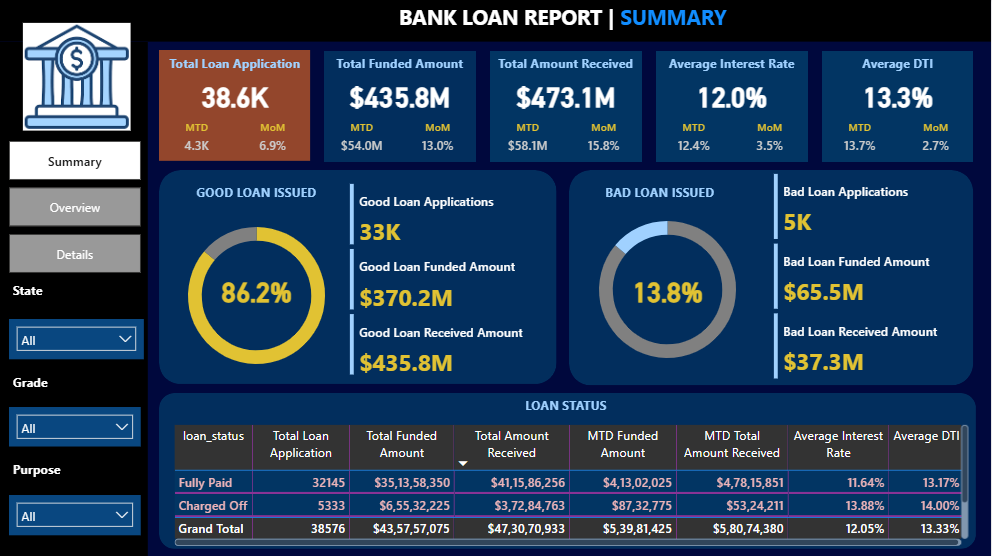

This screenshot's page, from the dashboard's own definition file:
{"tool":"powerbi","page":{"name":"Summary","canvas":[1280,720],"ordinal":0},"visuals":[{"type":"card","fields":{"Values":["financial_loan.Total Loan Application"]},"box":[206.9,101,195.6,45.4],"z":0,"group":"g1"},{"type":"card","fields":{"Values":["financial_loan.Total Funded Amount"]},"box":[419.5,101,195.6,45.4],"z":0,"group":"g3"},{"type":"card","fields":{"Values":["financial_loan.Total Amount Received"]},"box":[633.9,101,195.4,45.4],"z":0,"group":"g5"},{"type":"card","fields":{"Values":["financial_loan.Average Interest Rate"]},"box":[847.7,101,195.4,45.4],"z":0,"group":"g4"},{"type":"card","fields":{"Values":["financial_loan.Average DTI"]},"box":[1061.6,101,195.4,45.4],"z":0,"group":"g6"},{"type":"shape","box":[206.9,221.1,513.1,276.4],"z":0},{"type":"shape","box":[0,0,1279.8,55.3],"z":1000},{"type":"textbox","box":[206.9,66.6,195.6,34.4],"z":1000,"group":"g1"},{"type":"textbox","title":"Toatal Funded Amount","box":[419.5,66.6,195.6,34.4],"z":1000,"group":"g3"},{"type":"textbox","box":[633.9,66.6,195.4,34.4],"z":1000,"group":"g5"},{"type":"textbox","box":[847.7,66.6,195.4,34.4],"z":1000,"group":"g4"},{"type":"textbox","box":[1061.6,66.6,195.4,34.4],"z":1000,"group":"g6"},{"type":"card","title":"MTD","fields":{"Values":["financial_loan.MTD Loan Application"]},"box":[206.9,156.1,97.8,53.7],"z":2000,"group":"g1"},{"type":"card","title":"MTD","fields":{"Values":["financial_loan.MTD Funded Amount"]},"box":[419.5,156.1,97.8,53.7],"z":2000,"group":"g3"},{"type":"card","title":"MTD","fields":{"Values":["financial_loan.MTD Total Amount Received"]},"box":[633.9,156.1,97.7,53.7],"z":2000,"group":"g5"},{"type":"card","title":"MTD","fields":{"Values":["financial_loan.MTD Average Interest Rate"]},"box":[847.7,156.1,97.7,53.7],"z":2000,"group":"g4"},{"type":"card","title":"MTD","fields":{"Values":["financial_loan.MTD Average DTI"]},"box":[1061.6,156.1,97.7,53.7],"z":2000,"group":"g6"},{"type":"card","fields":{"Values":["financial_loan.Good Loan %"]},"box":[262.2,352.9,140.3,45.4],"z":2000},{"type":"shape","box":[0,55.1,192,664.8],"z":3000},{"type":"card","title":"MoM","fields":{"Values":["financial_loan.MoM Loan Application"]},"box":[304.7,156.1,97.8,53.7],"z":3000,"group":"g1"},{"type":"card","title":"MoM","fields":{"Values":["financial_loan.MoM Funded Amount"]},"box":[517.3,156.1,97.8,53.7],"z":3000,"group":"g3"},{"type":"card","title":"MoM","fields":{"Values":["financial_loan.MoM Amount Received"]},"box":[731.6,156.1,97.7,53.7],"z":3000,"group":"g5"},{"type":"card","title":"MoM","fields":{"Values":["financial_loan.MoM Average Interest Rate"]},"box":[945.4,156.1,97.7,53.7],"z":3000,"group":"g4"},{"type":"card","title":"MoM","fields":{"Values":["financial_loan.MoM Average Dti"]},"box":[1159.3,156.1,97.7,53.7],"z":3000,"group":"g6"},{"type":"textbox","box":[510.6,0,447.3,55.1],"z":4000},{"type":"shape","box":[206.5,66.1,195.4,143.1],"z":5000},{"type":"group","id":"g1","title":"Group 2","box":[206.9,66.6,195.6,143.1],"z":5001,"group":"g2"},{"type":"group","id":"g2","title":"Group 1","box":[206.9,66.6,195.6,143.1],"z":6000},{"type":"group","id":"g3","title":"Group 1","box":[419.5,66.6,195.6,143.1],"z":7000},{"type":"group","id":"g4","title":"Group 2","box":[847.7,66.6,195.6,143.1],"z":8000},{"type":"group","id":"g5","title":"Group 2","box":[633.9,66.6,195.4,143.1],"z":9000},{"type":"group","id":"g6","title":"Group 2","box":[1061.6,66.6,195.6,143.1],"z":10000},{"type":"donutChart","fields":{"Category":["financial_loan.Good vs Bad Loan."],"Y":["financial_loan.Total Loan Application"]},"box":[216.9,266.5,231,231],"z":11000},{"type":"shape","box":[735.6,221.1,521.6,277.8],"z":12000},{"type":"textbox","box":[216.9,233.9,231,35.4],"z":13000},{"type":"cardVisual","fields":{"Data":["financial_loan.Good Loan Applications","financial_loan.Good Loan Funded Amount","financial_loan.Good Loan Total Received"]},"box":[447.9,233.9,260.8,256.5],"z":14000},{"type":"donutChart","fields":{"Category":["financial_loan.Good vs Bad Loan."],"Y":["financial_loan.Total Loan Application"]},"box":[746.9,259.4,231,231],"z":15000},{"type":"cardVisual","fields":{"Data":["financial_loan.Bad Loan Applications","financial_loan.Bad Loan Funded Amount","financial_loan.Bad Loan Total Received"]},"box":[995,221.1,260.8,276.4],"z":16000},{"type":"textbox","box":[746.9,233.9,211.2,35.4],"z":17000},{"type":"card","fields":{"Values":["financial_loan.Bad Loan %"]},"box":[792.3,352.9,140.3,45.4],"z":18000},{"type":"shape","box":[206.9,508.8,1054.5,201.3],"z":19000},{"type":"tableEx","fields":{"Values":["financial_loan.loan_status","financial_loan.Total Loan Application","financial_loan.Total Funded Amount","financial_loan.Total Amount Received","financial_loan.MTD Funded Amount","financial_loan.MTD Total Amount Received","financial_loan.Average Interest Rate","financial_loan.Average DTI"]},"box":[221.1,544.3,1034.6,165.8],"z":20000},{"type":"textbox","box":[221.1,508.8,1021.9,35.4],"z":21000},{"type":"slicer","fields":{"Values":["financial_loan.address_state"]},"box":[12.8,412.4,174.3,52.4],"z":22000},{"type":"textbox","box":[12.8,360,170.1,38.3],"z":23000},{"type":"textbox","box":[12.8,591,170.1,35.4],"z":24000},{"type":"textbox","box":[12.8,479.1,170.1,32.6],"z":25000},{"type":"slicer","fields":{"Values":["financial_loan.purpose"]},"box":[12.8,640.6,170.1,52.4],"z":26000},{"type":"slicer","fields":{"Values":["financial_loan.grade"]},"box":[12.8,525.8,170.1,51],"z":27000},{"type":"pageNavigator","box":[12.8,182.8,170.1,170.1],"z":28000},{"type":"image","box":[25.5,25.5,148.8,148.8],"z":28001}]}

Visuals, with their boxes in screenshot pixels (x1, y1, x2, y2), scaled from the page's 1280x720 canvas onto the 992x556 screenshot:
card - financial_loan.Total Loan Application: l=160, t=78, r=312, b=113
card - financial_loan.Total Funded Amount: l=325, t=78, r=477, b=113
card - financial_loan.Total Amount Received: l=491, t=78, r=643, b=113
card - financial_loan.Average Interest Rate: l=657, t=78, r=808, b=113
card - financial_loan.Average DTI: l=823, t=78, r=974, b=113
shape: l=160, t=171, r=558, b=384
shape: l=0, t=0, r=991, b=43
textbox: l=160, t=51, r=312, b=78
"Toatal Funded Amount" textbox: l=325, t=51, r=477, b=78
textbox: l=491, t=51, r=643, b=78
textbox: l=657, t=51, r=808, b=78
textbox: l=823, t=51, r=974, b=78
"MTD" card: l=160, t=121, r=236, b=162
"MTD" card: l=325, t=121, r=401, b=162
"MTD" card: l=491, t=121, r=567, b=162
"MTD" card: l=657, t=121, r=733, b=162
"MTD" card: l=823, t=121, r=898, b=162
card - financial_loan.Good Loan %: l=203, t=273, r=312, b=308
shape: l=0, t=43, r=149, b=555
"MoM" card: l=236, t=121, r=312, b=162
"MoM" card: l=401, t=121, r=477, b=162
"MoM" card: l=567, t=121, r=643, b=162
"MoM" card: l=733, t=121, r=808, b=162
"MoM" card: l=898, t=121, r=974, b=162
textbox: l=396, t=0, r=742, b=43
shape: l=160, t=51, r=311, b=162
"Group 2" group: l=160, t=51, r=312, b=162
"Group 1" group: l=160, t=51, r=312, b=162
"Group 1" group: l=325, t=51, r=477, b=162
"Group 2" group: l=657, t=51, r=809, b=162
"Group 2" group: l=491, t=51, r=643, b=162
"Group 2" group: l=823, t=51, r=974, b=162
donutChart - financial_loan.Good vs Bad Loan. x financial_loan.Total Loan Application: l=168, t=206, r=347, b=384
shape: l=570, t=171, r=974, b=385
textbox: l=168, t=181, r=347, b=208
cardVisual - financial_loan.Good Loan Applications x financial_loan.Good Loan Funded Amount: l=347, t=181, r=549, b=379
donutChart - financial_loan.Good vs Bad Loan. x financial_loan.Total Loan Application: l=579, t=200, r=758, b=379
cardVisual - financial_loan.Bad Loan Applications x financial_loan.Bad Loan Funded Amount: l=771, t=171, r=973, b=384
textbox: l=579, t=181, r=743, b=208
card - financial_loan.Bad Loan %: l=614, t=273, r=723, b=308
shape: l=160, t=393, r=978, b=548
tableEx - financial_loan.loan_status x financial_loan.Total Loan Application: l=171, t=420, r=973, b=548
textbox: l=171, t=393, r=963, b=420
slicer - financial_loan.address_state: l=10, t=318, r=145, b=359
textbox: l=10, t=278, r=142, b=308
textbox: l=10, t=456, r=142, b=484
textbox: l=10, t=370, r=142, b=395
slicer - financial_loan.purpose: l=10, t=495, r=142, b=535
slicer - financial_loan.grade: l=10, t=406, r=142, b=445
pageNavigator: l=10, t=141, r=142, b=273
image: l=20, t=20, r=135, b=135
